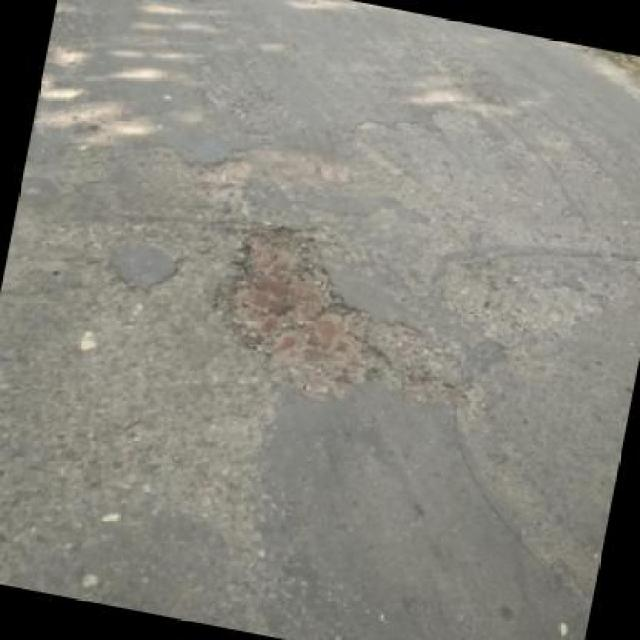pothole1: (200, 208, 406, 403)
